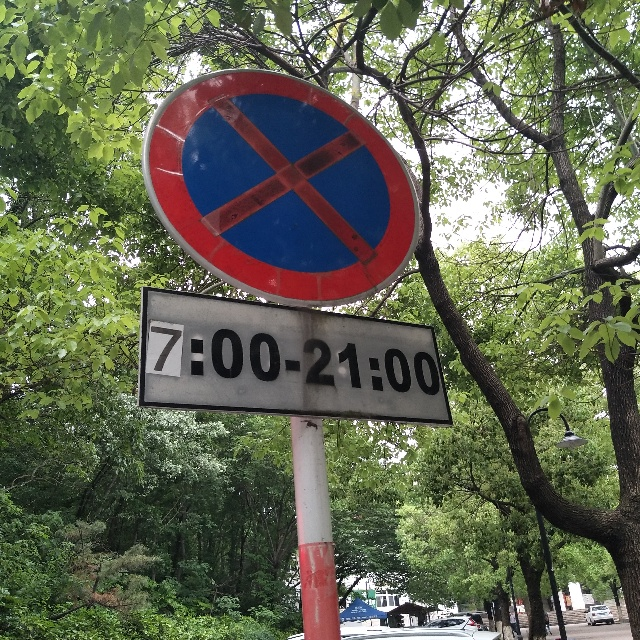stop: (132, 60, 441, 315)
